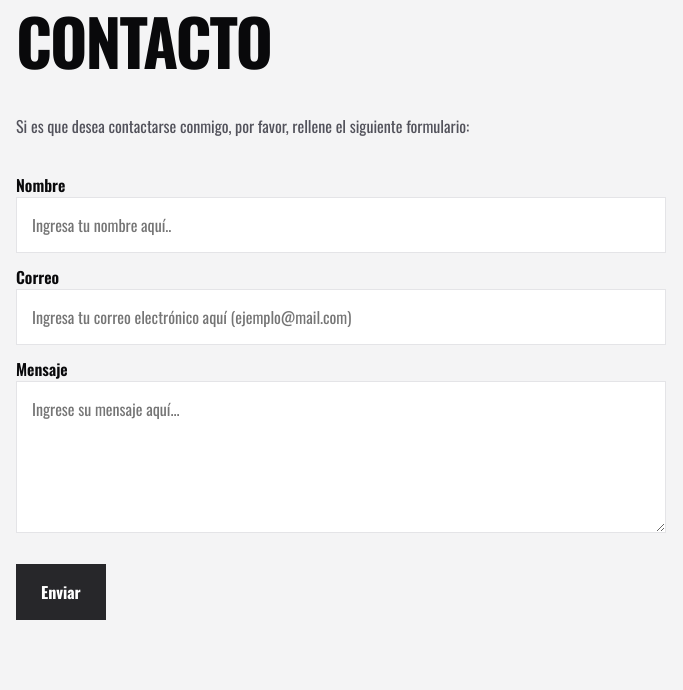
Test: Componente de Contacto › Debe mostrar error si se ingresa un correo inválido
The width and height of the screenshot is (683, 690).
Step 1. Type "Pedro Perez" into the field labelled "Nombre" → {"x": 341, "y": 225}, box top-left (16, 197), bottom-right (666, 253)
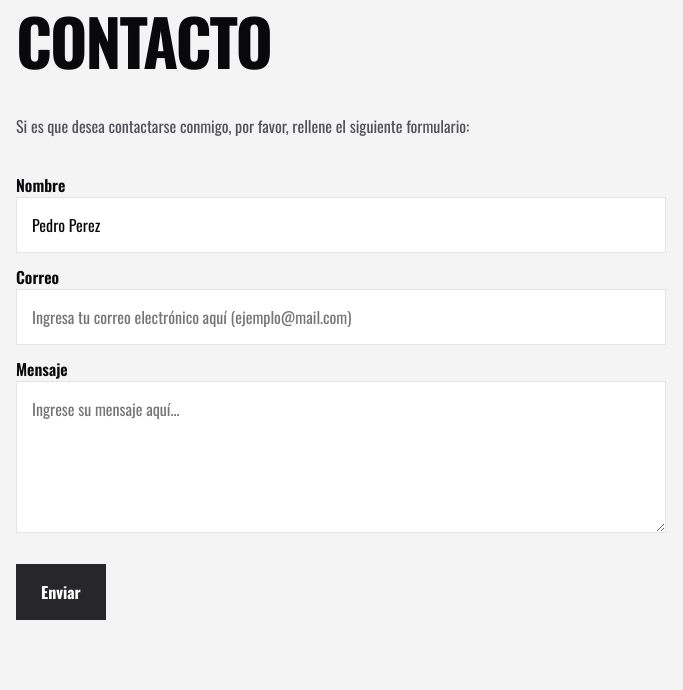
Step 2. Type "correo-malo" into the field labelled "Correo" → {"x": 341, "y": 317}, box top-left (16, 289), bottom-right (666, 345)
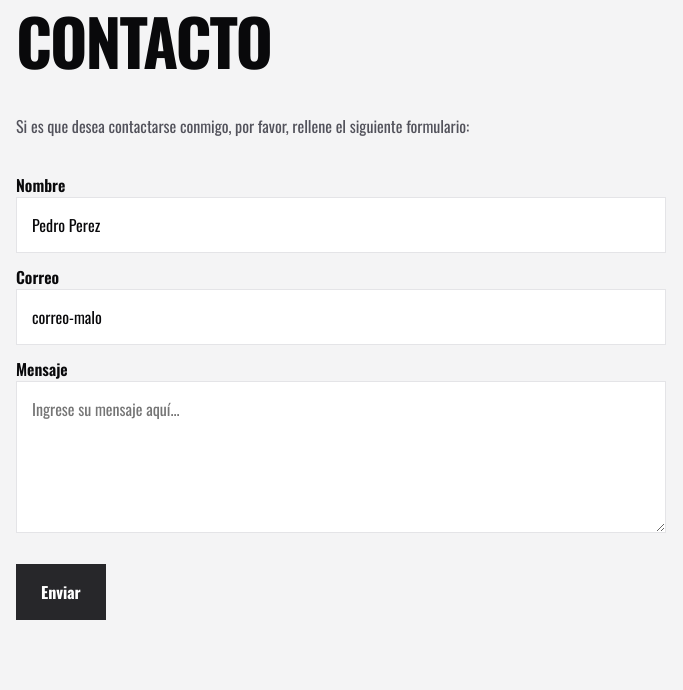
Step 3. Type "ABC 123 Hola Hola Hola" into the text box labelled "Mensaje" → {"x": 341, "y": 457}, box top-left (16, 381), bottom-right (666, 533)
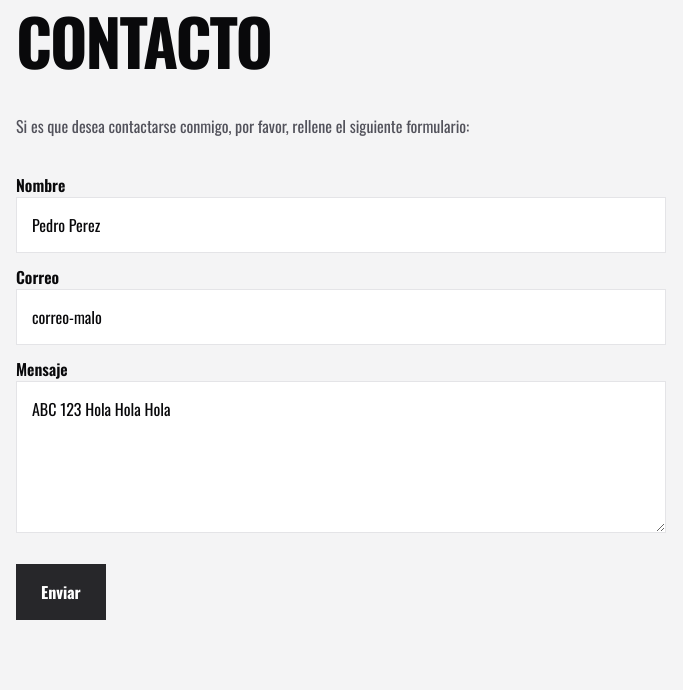
Step 4. Submit the form labelled "Nombre"
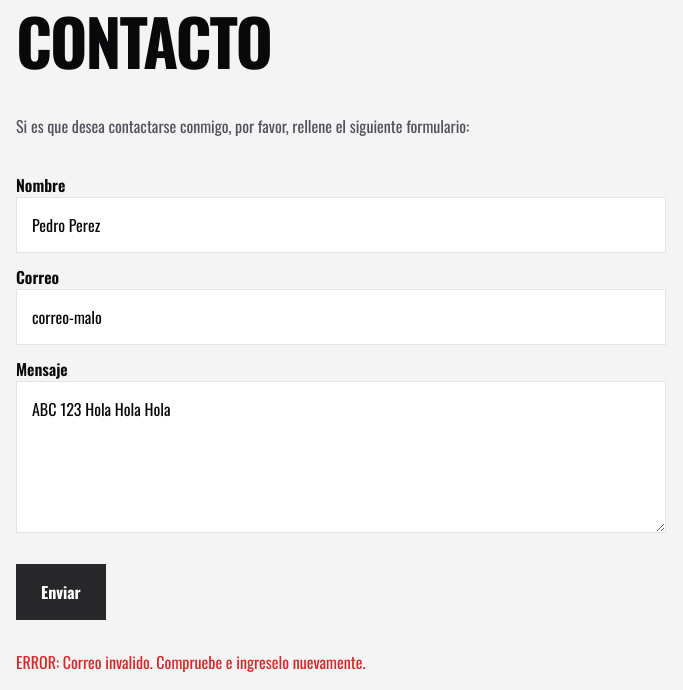
Expected: the message reads "ERROR: Correo invalido. Compruebe e ingreselo nuevamente.", top-left (16, 650), bottom-right (365, 674)
